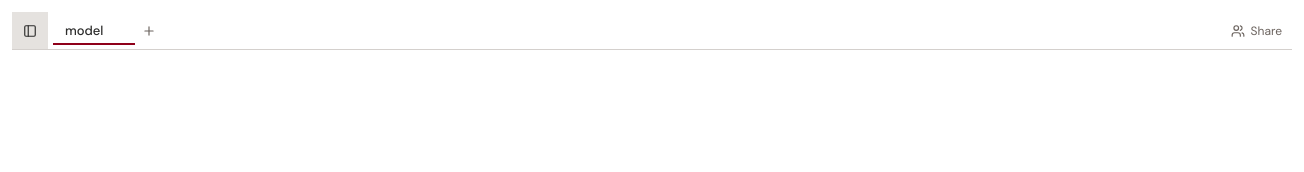
Test case: TabBar › focuses the rename input immediately after selecting Rename from the context menu
# Tab display strips .ump extension
Right-click the tab "model" at (94, 30), box [53,16,136,44]
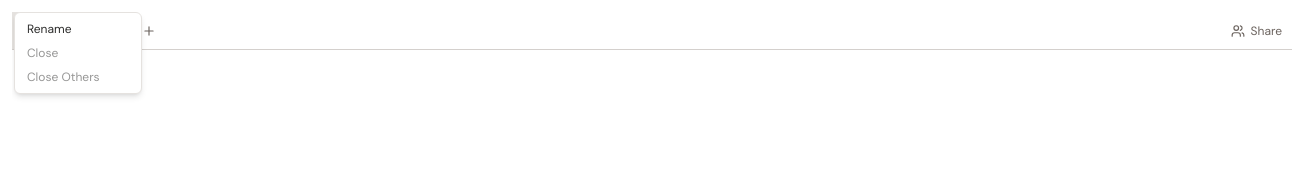
Click the menu item "Rename" at (49, 29), box [27,21,72,37]
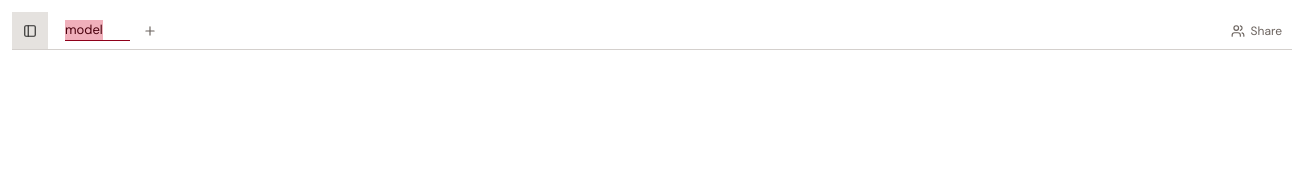
Now the field named "Rename model.ump" holds "model", box [65,20,130,41]
